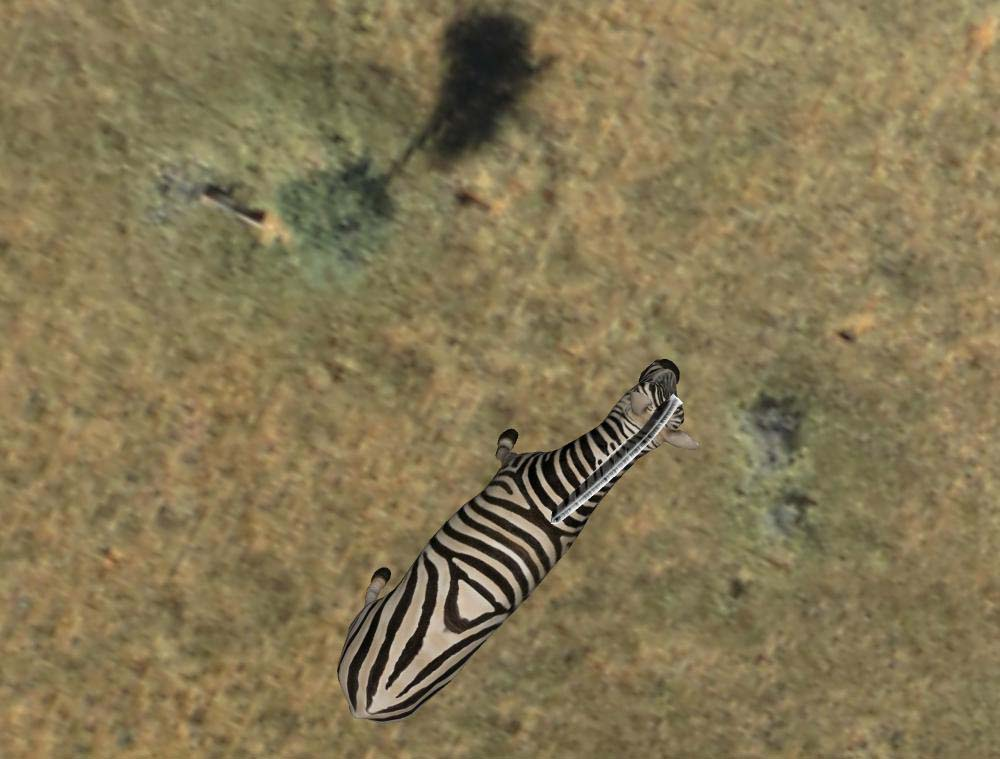zebra: (336, 350, 691, 729)
